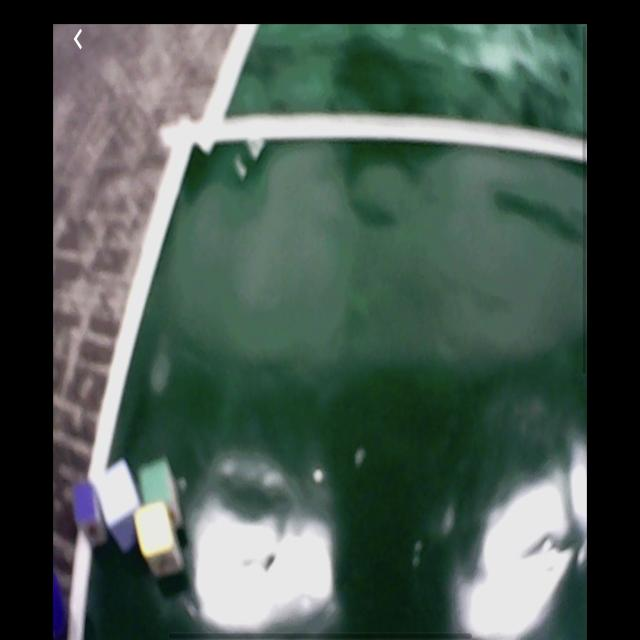ball: (54, 574, 68, 637)
